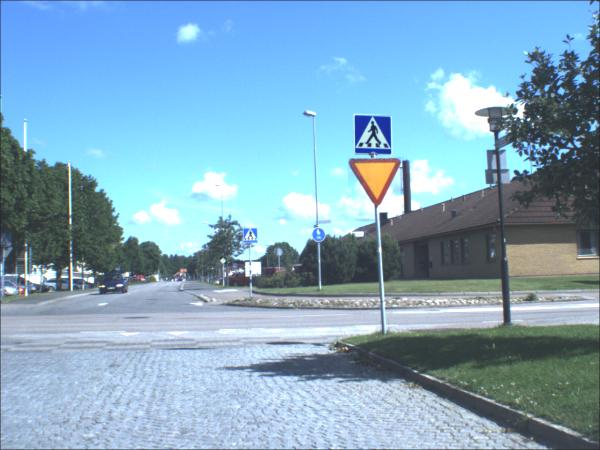GIVE_WAY: (349, 159, 403, 208)
PEDESTRIAN_CROSSING: (356, 116, 393, 157), (245, 230, 259, 245)
PRIORITY_ROAD: (221, 258, 229, 266)
